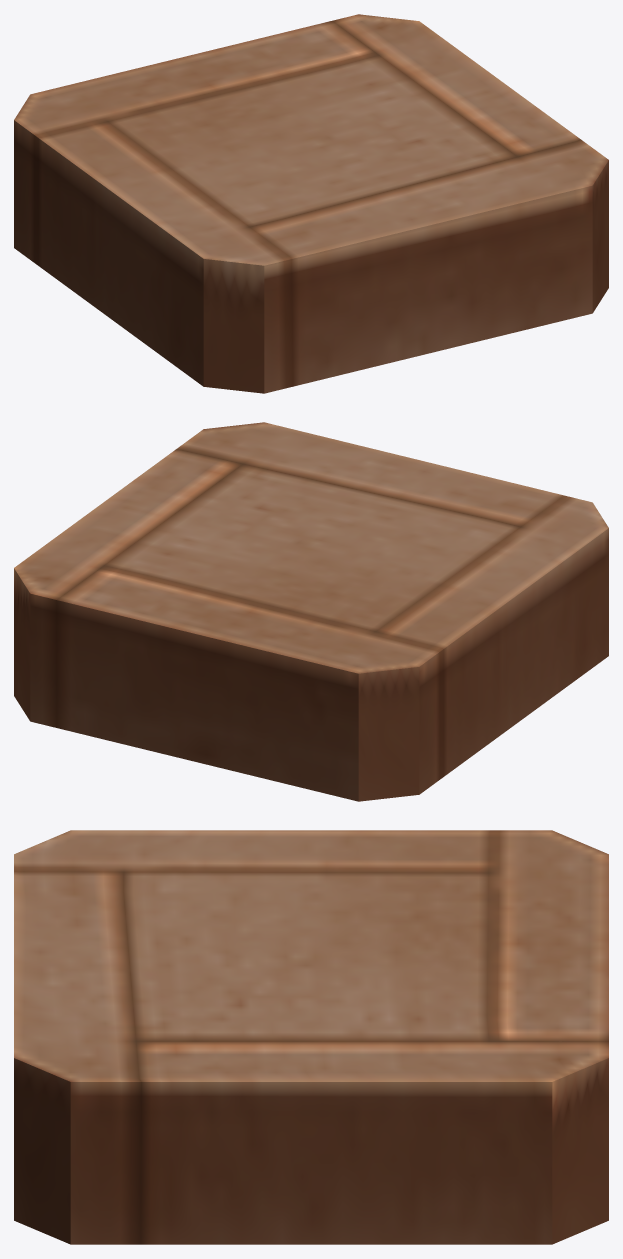
The model's file is GHmG_1_02.FBX.
3 views of the same model, one above another, from view 1: azimuth 30°, elevation 25°; view 2: azimuth 150°, elevation 25°; view 3: azimuth 270°, elevation 25° (orthographic). The views are drawn at different scales.
Visible parts, largest first — view 1: Box250; view 2: Box250; view 3: Box250.
Part boxes in pixels (left/top/right/bottom): Box250: left=14, top=14, right=608, bottom=393; Box250: left=14, top=422, right=608, bottom=801; Box250: left=14, top=830, right=608, bottom=1244.
Bounding box in the file's own units: 0.8816 × 0.2659 × 0.8816.
